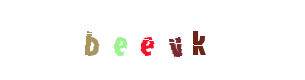B: (67, 0, 147, 80)
E: (80, 0, 160, 80), (106, 0, 186, 80)
K: (149, 0, 229, 80)
V: (112, 0, 192, 80)
